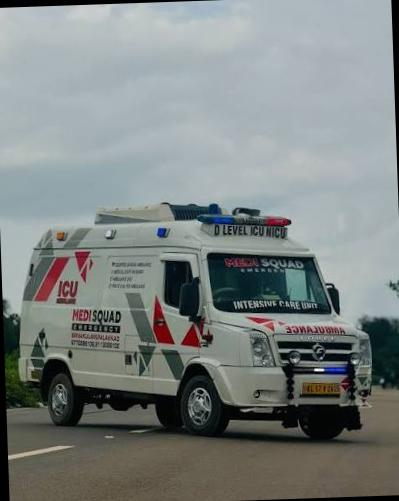ambulance: (12, 194, 374, 446)
